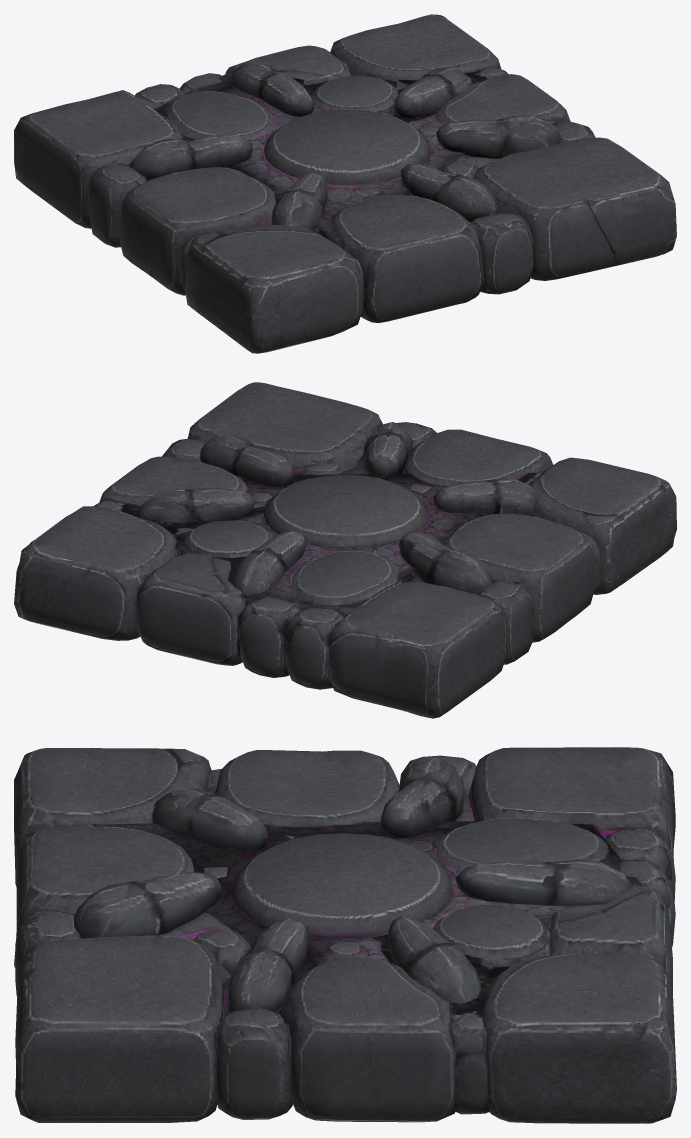
File: snare_broken.glb
The picture shows the model from 3 angles, top to bottom: view 1: azimuth 30°, elevation 25°; view 2: azimuth 150°, elevation 25°; view 3: azimuth 270°, elevation 25°; orthographic projection. The views are drawn at different scales.
Bounding box in the file's own units: 1 × 0.2085 × 0.9922.
Materials: 1 (1 with a texture image).
